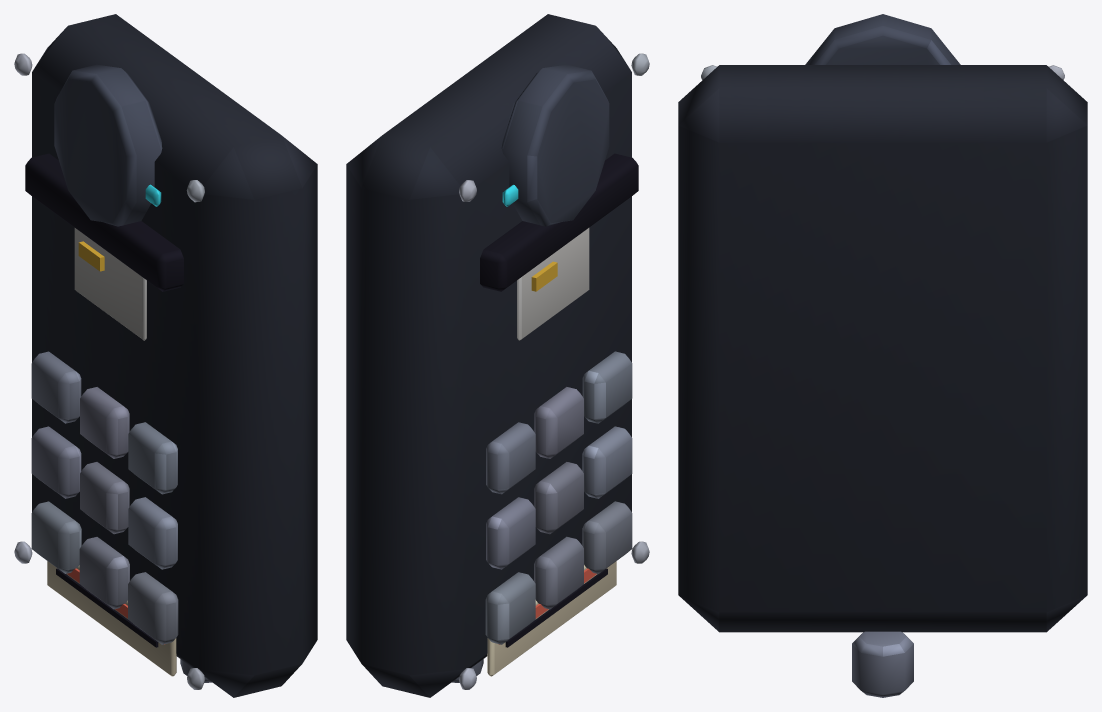
Rendered from SM_Door_KeycardReader.fbx.
3 renders of one model, left to right at view 1: azimuth 30°, elevation 25°; view 2: azimuth 150°, elevation 25°; view 3: azimuth 270°, elevation 25°, orthographic.
Parts seen in each view (by area): view 1: SM_Door_KeycardReader; view 2: SM_Door_KeycardReader; view 3: SM_Door_KeycardReader.
Boxes of the visible parts, x1,y1,x2,y2 form: SM_Door_KeycardReader: [14, 14, 317, 697]; SM_Door_KeycardReader: [346, 14, 649, 697]; SM_Door_KeycardReader: [678, 14, 1087, 697].
Size of the model in its own units: 12.33 by 50.13 by 30.04.
